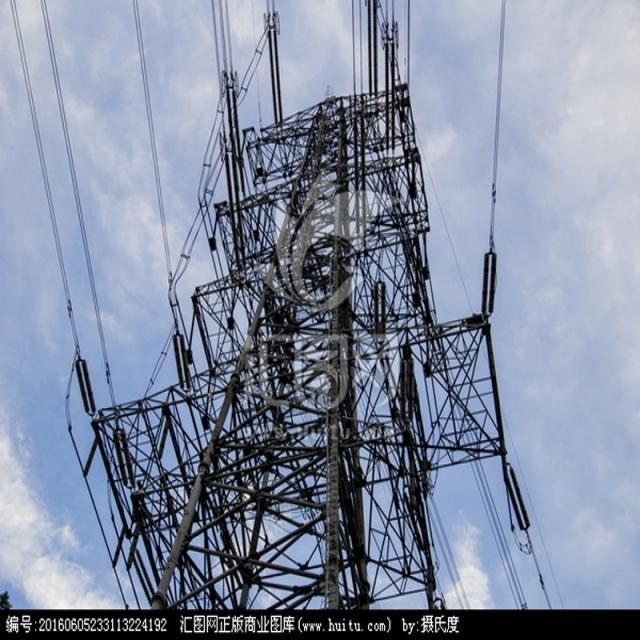non-critical vegetation: (54, 78, 545, 604)
